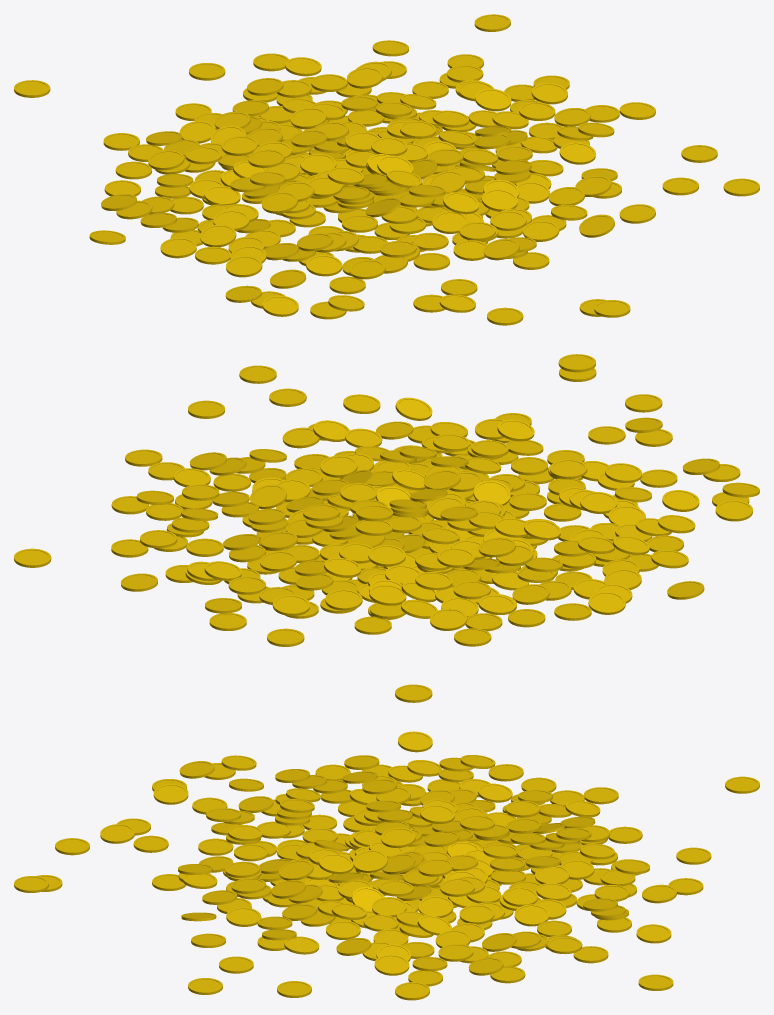
The model's file is SmallCoinPile.glb.
3 views of the same model, one above another, from view 1: azimuth 30°, elevation 25°; view 2: azimuth 150°, elevation 25°; view 3: azimuth 270°, elevation 25° (orthographic). The views are drawn at different scales.
Visible parts, largest first — view 1: SmallCoinPile; view 2: SmallCoinPile; view 3: SmallCoinPile.
Boxes of the visible parts, x1,y1,x2,y2 form: SmallCoinPile: (14,14,759,325); SmallCoinPile: (14,354,759,702); SmallCoinPile: (14,731,759,1000).
Bounding box in the file's own units: 8.91 × 0.2857 × 10.68.
